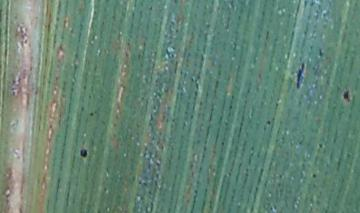tarspot: (294, 60, 308, 91), (340, 86, 355, 110), (77, 143, 89, 162), (310, 170, 320, 183), (318, 47, 326, 61), (264, 117, 273, 129), (316, 139, 325, 151), (87, 111, 96, 119)
